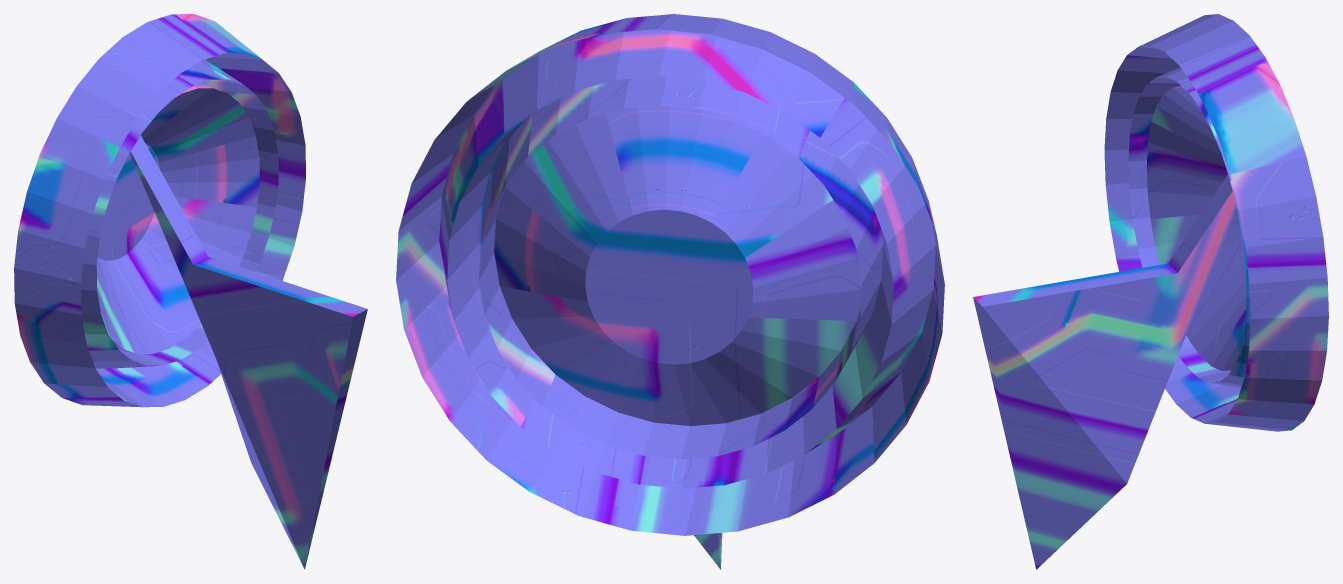
Rendered from radar7.obj.
3 renders of one model, left to right at view 1: azimuth 30°, elevation 25°; view 2: azimuth 150°, elevation 25°; view 3: azimuth 270°, elevation 25°, orthographic. The views are drawn at different scales.
Parts seen in each view (by area): view 1: radar; view 2: radar; view 3: radar.
Boxes of the visible parts, x1,y1,x2,y2 form: radar: [14, 14, 367, 569]; radar: [396, 14, 944, 569]; radar: [973, 14, 1328, 569].
Bounding box in the file's own units: 0.9296 × 1.3 × 0.8283.
